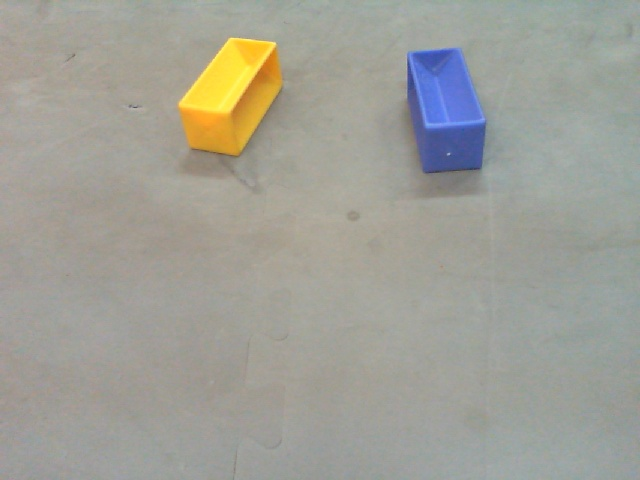BlueSample: (406, 46, 488, 174)
YellowSample: (176, 36, 287, 157)
